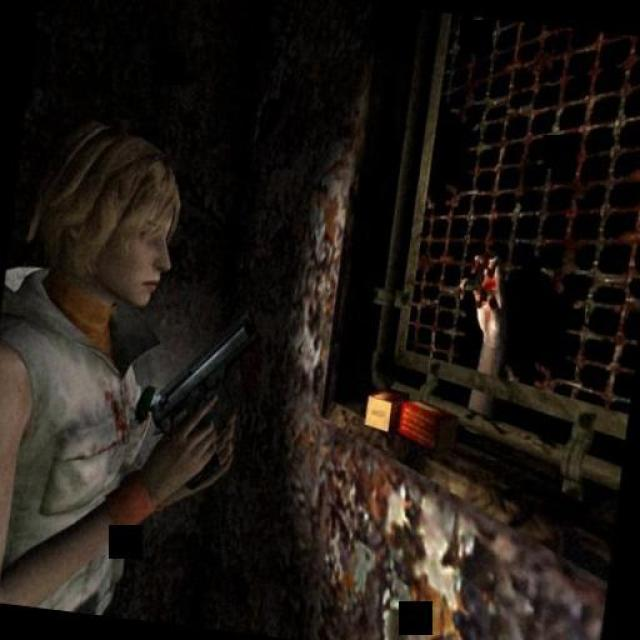gun: (138, 307, 266, 483)
